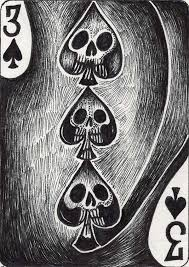three of spades: (1, 1, 188, 267)
